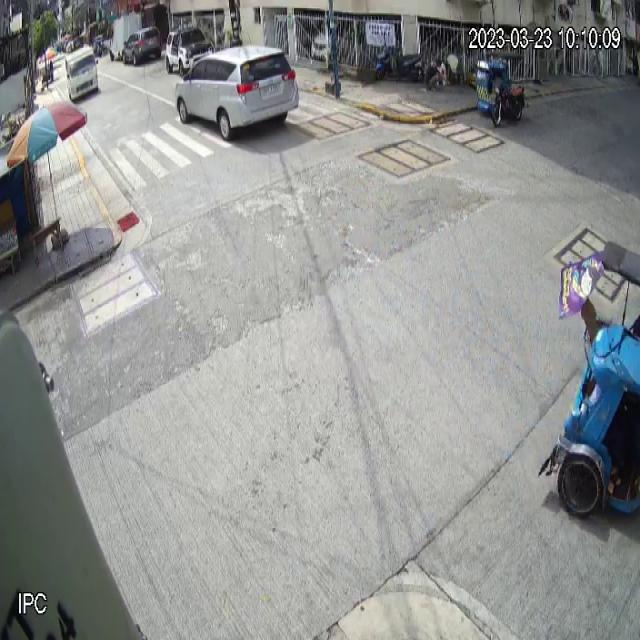Car: (175, 45, 300, 141)
